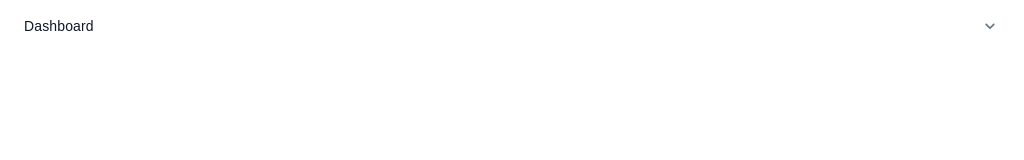
Test: CrvSidebarMenu › toggles in uncontrolled mode and fires onToggle
This screenshot has width=1024, height=160.
Click the menu item "Dashboard".
click(59, 26)  # box [8, 8, 1016, 44]
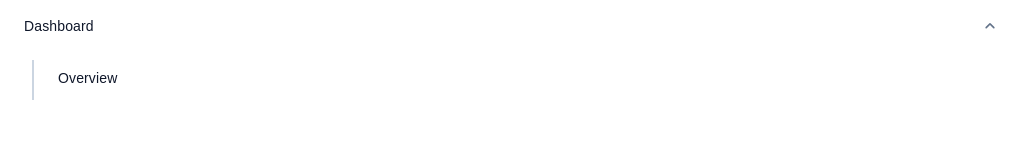
Now the text "Overview" is shown, box [58, 70, 117, 86]
